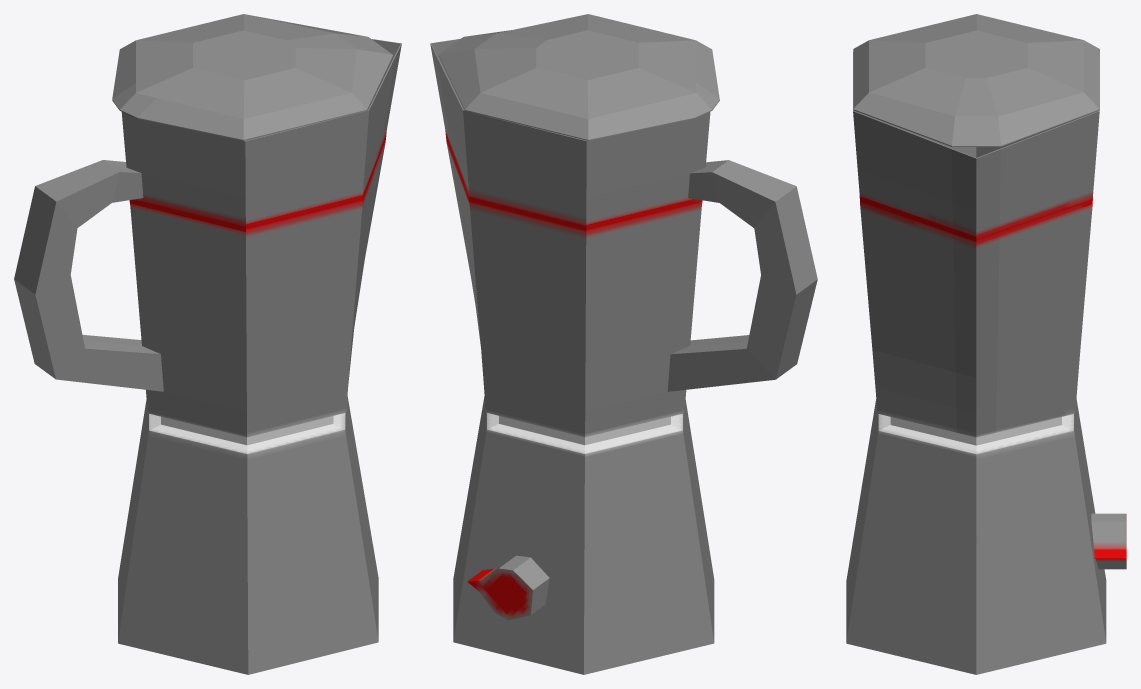
File: blender.fbx
3 renders of one model, left to right at view 1: azimuth 30°, elevation 25°; view 2: azimuth 150°, elevation 25°; view 3: azimuth 270°, elevation 25°, orthographic.
Parts seen in each view (by area): view 1: Blender; view 2: Blender; view 3: Blender.
Part boxes in pixels (left/top/right/bottom): Blender: left=14, top=14, right=401, bottom=674; Blender: left=430, top=14, right=817, bottom=674; Blender: left=846, top=14, right=1126, bottom=674.
Size of the model in its own units: 385 by 543 by 248.
